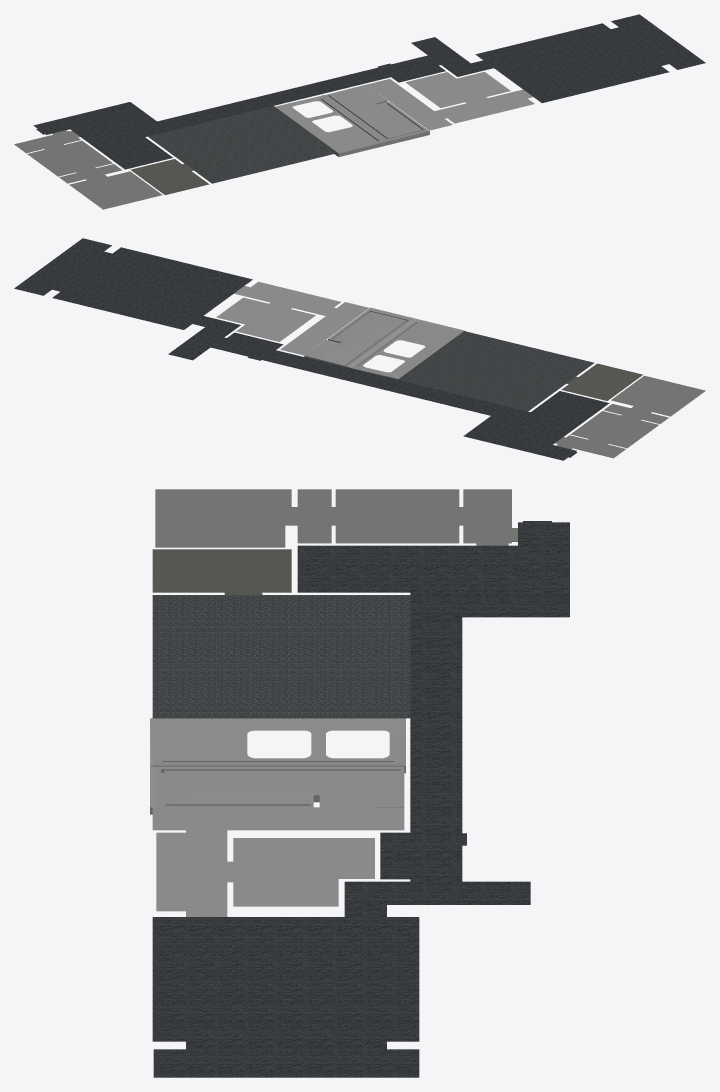
Rendered from floor1.FBX.
3 renders of one model, top to bottom at view 1: azimuth 30°, elevation 25°; view 2: azimuth 150°, elevation 25°; view 3: azimuth 270°, elevation 25°, orthographic. The views are drawn at different scales.
Visible parts, largest first — view 1: Component#314_001, bathroom_floor, trainingfloor, Object002, Component#260_001, exam_floor; view 2: Component#314_001, bathroom_floor, trainingfloor, Object002, Component#260_001, exam_floor; view 3: Component#314_001, trainingfloor, bathroom_floor, Object002, Component#260_001, exam_floor.
Part boxes in pixels (x1=…): Component#314_001: x1=33, y1=14, x2=705, y2=169; bathroom_floor: x1=324, y1=71, x2=534, y2=144; trainingfloor: x1=148, y1=106, x2=337, y2=183; Object002: x1=14, y1=130, x2=162, y2=209; Component#260_001: x1=275, y1=95, x2=387, y2=156; exam_floor: x1=130, y1=159, x2=209, y2=194; Component#314_001: x1=14, y1=238, x2=609, y2=460; bathroom_floor: x1=216, y1=281, x2=413, y2=367; trainingfloor: x1=398, y1=331, x2=594, y2=411; Object002: x1=555, y1=375, x2=705, y2=458; Component#260_001: x1=348, y1=318, x2=464, y2=379; exam_floor: x1=561, y1=363, x2=642, y2=400; Component#314_001: x1=152, y1=522, x2=569, y2=1077; trainingfloor: x1=152, y1=595, x2=410, y2=718; bathroom_floor: x1=150, y1=766, x2=404, y2=916; Object002: x1=155, y1=489, x2=517, y2=547; Component#260_001: x1=150, y1=718, x2=405, y2=773; exam_floor: x1=152, y1=549, x2=291, y2=594.
Size of the model in its own units: 1710 by 10.25 by 516.
